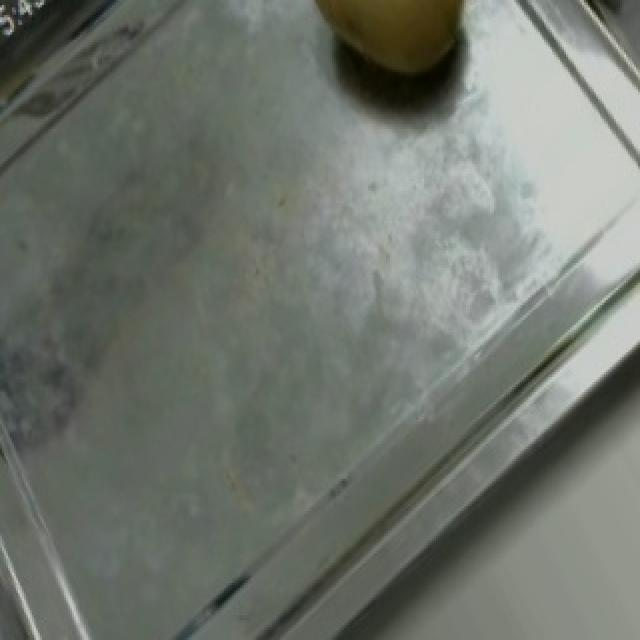Fruit: (274, 0, 502, 124)
